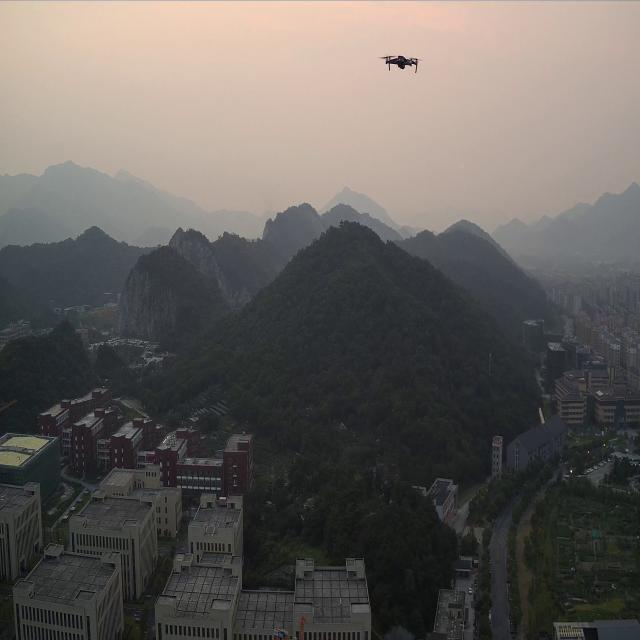UAV: (382, 54, 420, 73)
